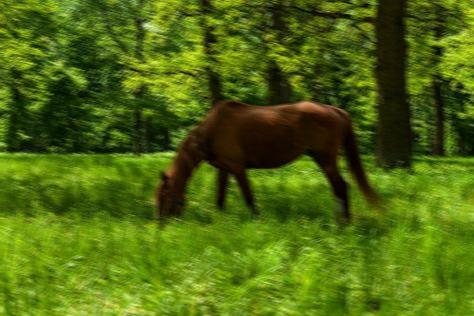horse: (152, 98, 384, 227)
